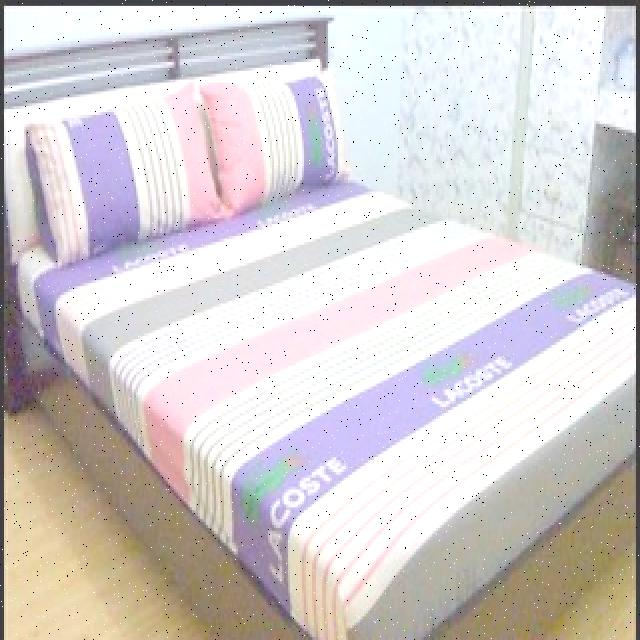bed: (9, 62, 638, 611)
